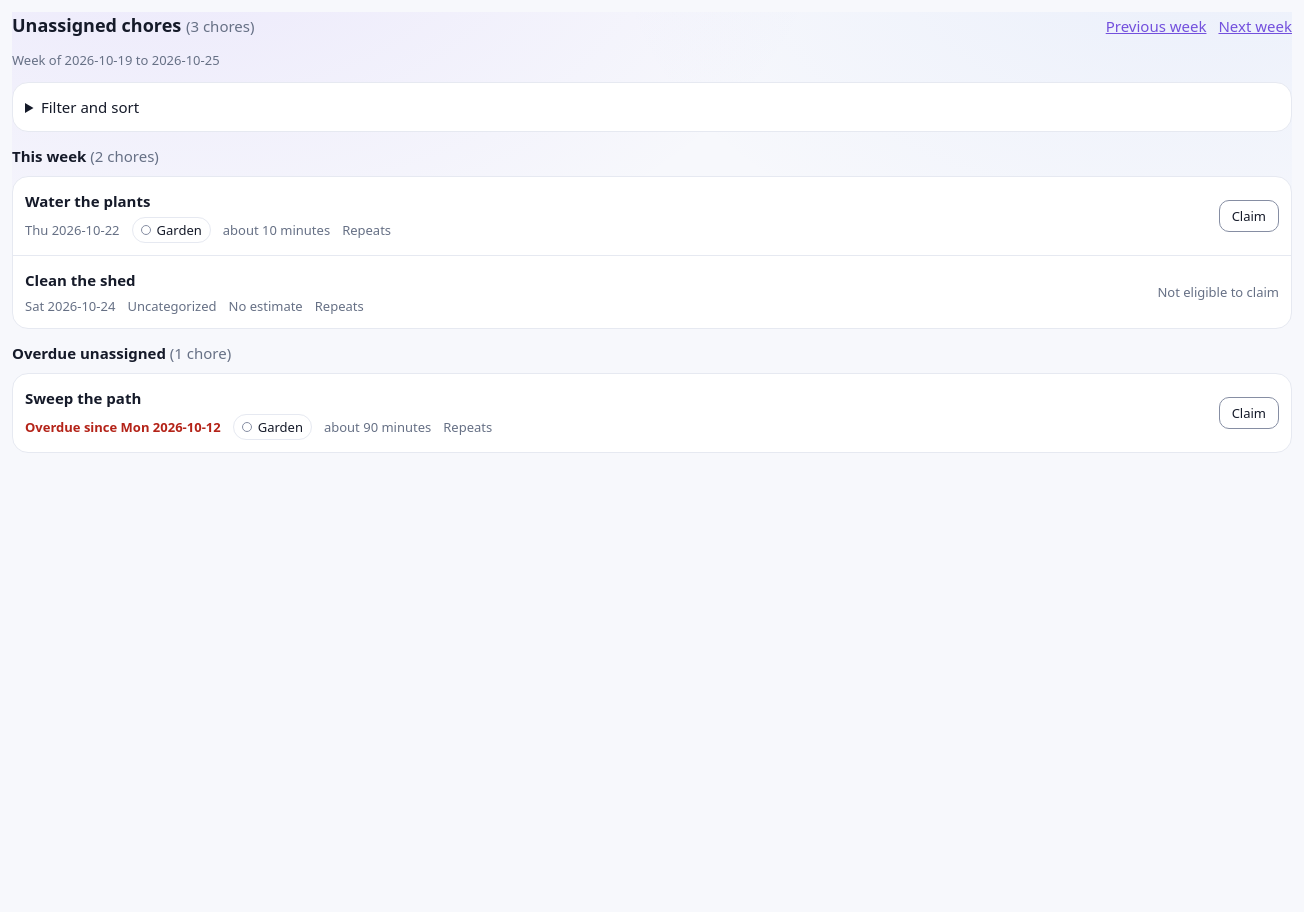
Test case: the pool › filters with matching and total counts, tells no match from empty, and resets
Click the heading "Filter and sort".
click(90, 107)  # box [41,97,139,117]
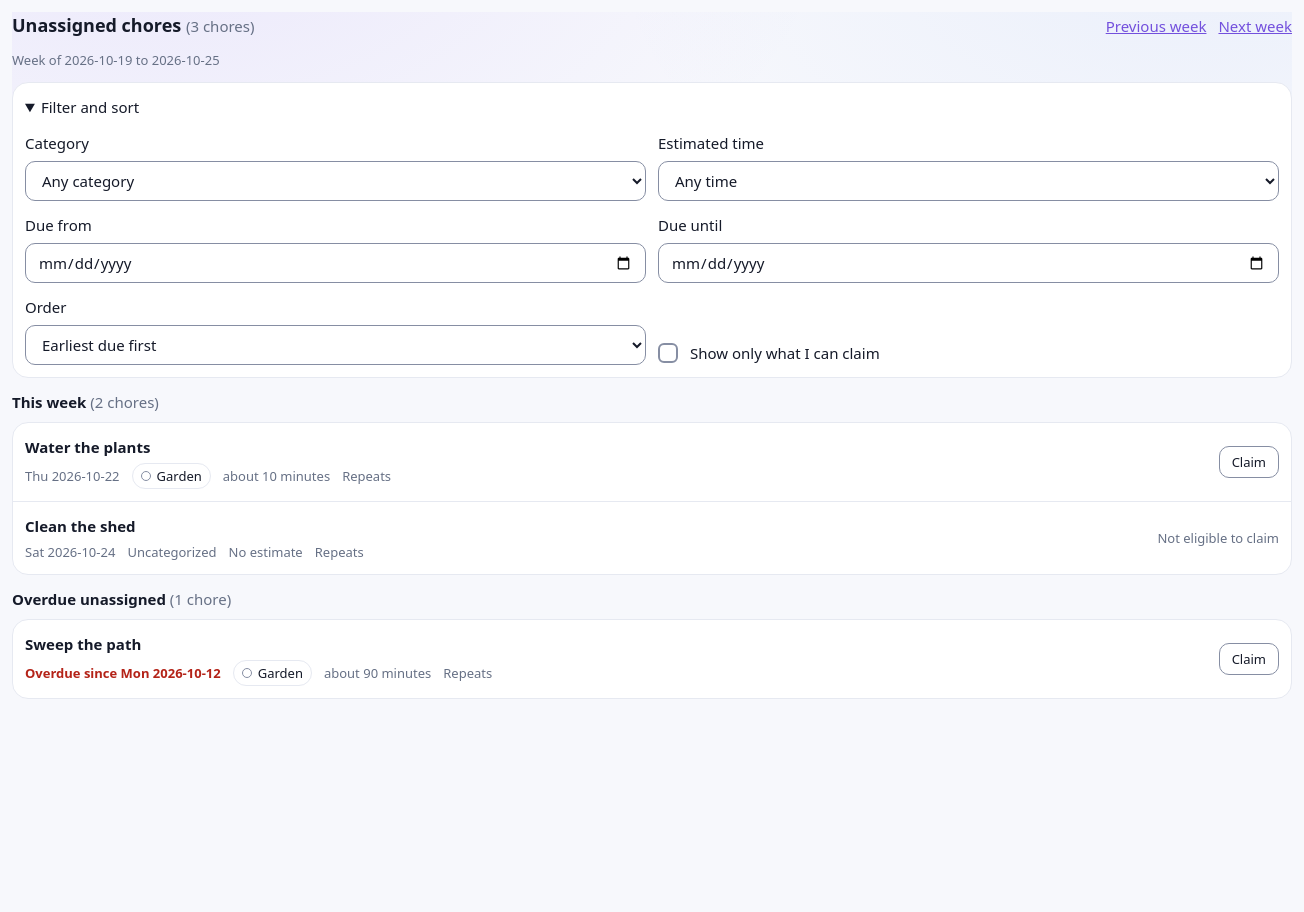
Click the checkbox labelled "Show only what I can claim".
click(668, 353)  # box [658,343,678,363]
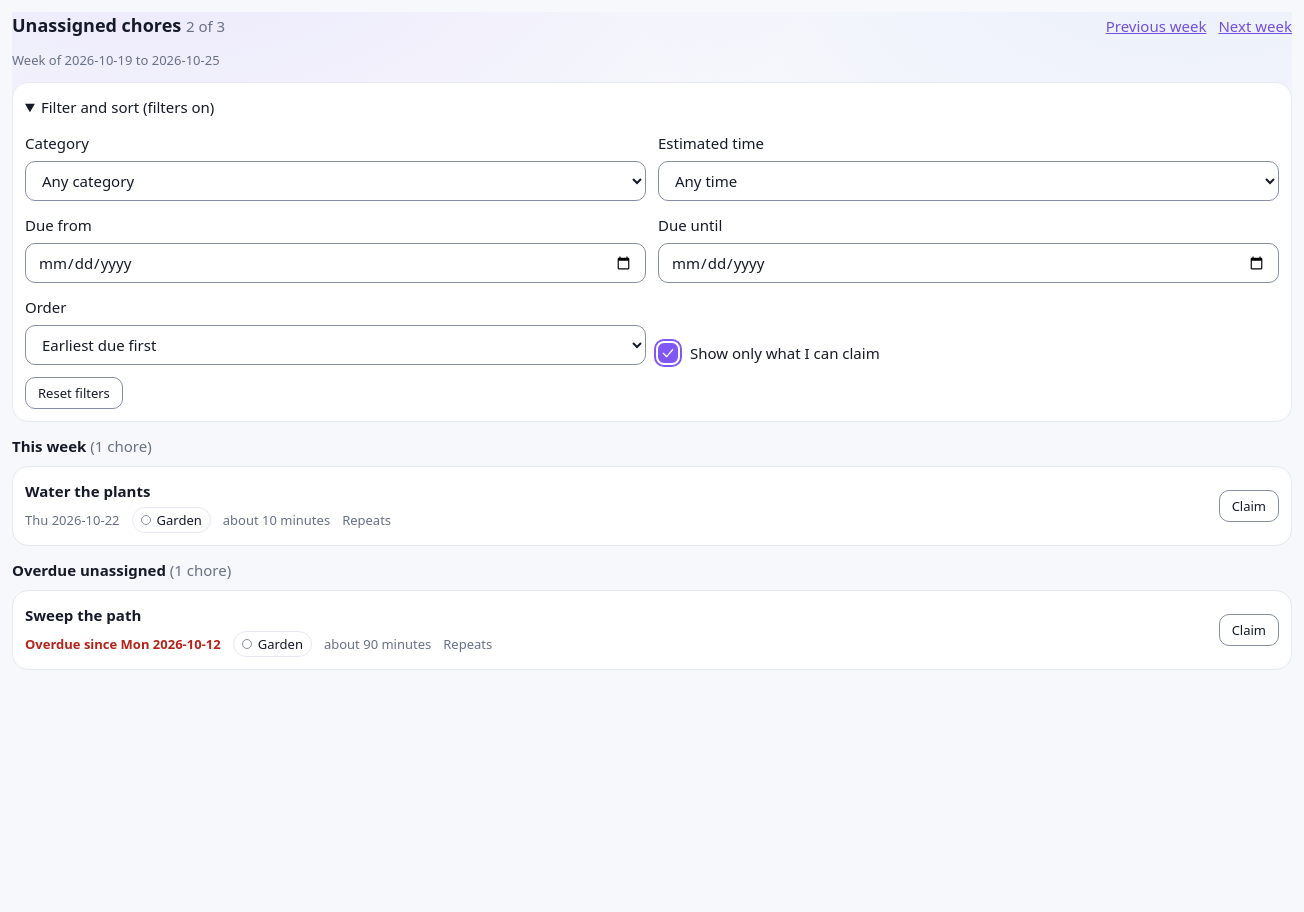
Expected: the text with test id "chore-pool-count" reads "2 of 3", [186,16,225,36]
Select "Uncategorized" in the dropdown labelled "Category" at (336, 181), box [25,161,646,201]
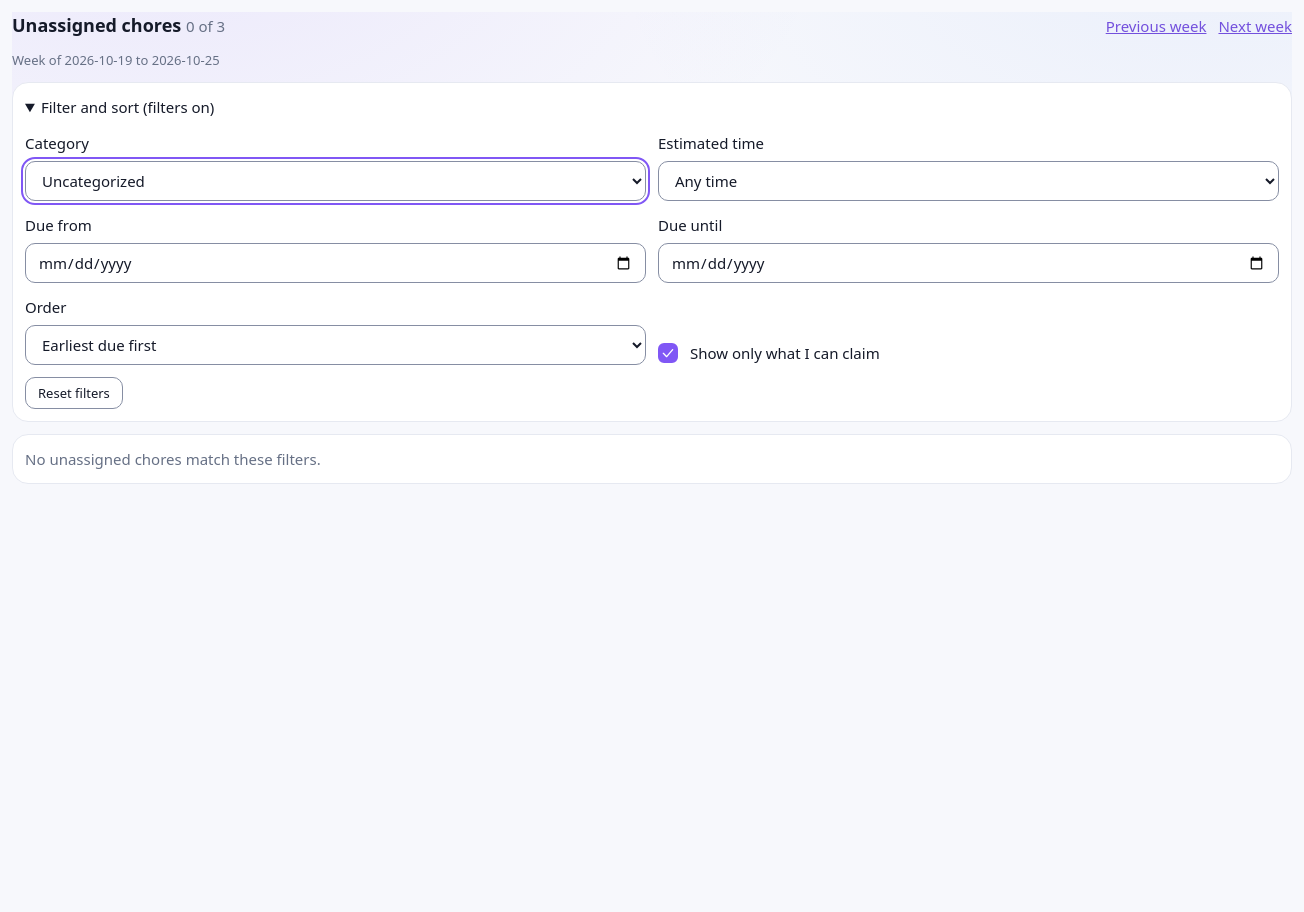
Expected: the text "No unassigned chores match these filters." is shown, [12,434,1292,484]
Click the button with test id "pool-reset".
click(74, 393)  # box [25,377,123,409]
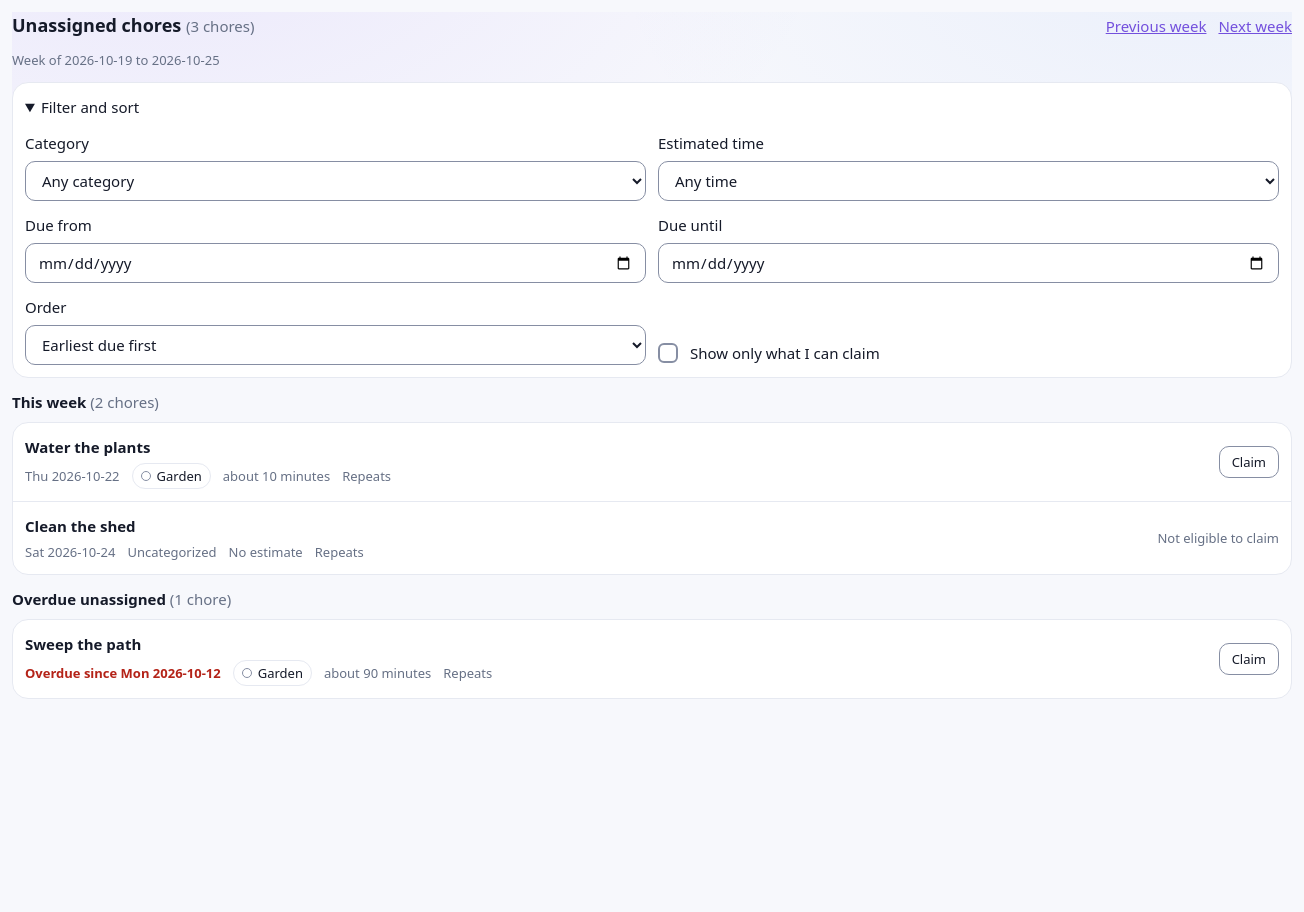
Expected: the number of list items with test id "pool-row" is 3, [13,423,1291,502]; [13,502,1291,574]; [25,634,492,686]
